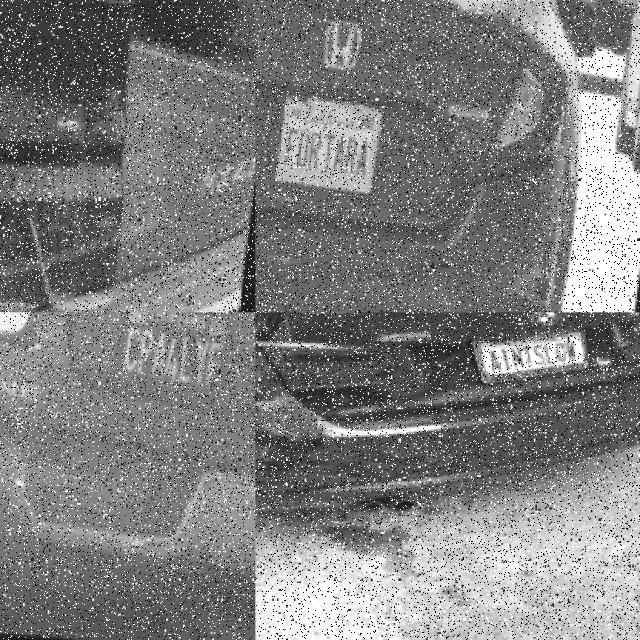LicensePlate: (111, 312, 234, 405), (274, 93, 382, 192), (471, 331, 594, 387)
